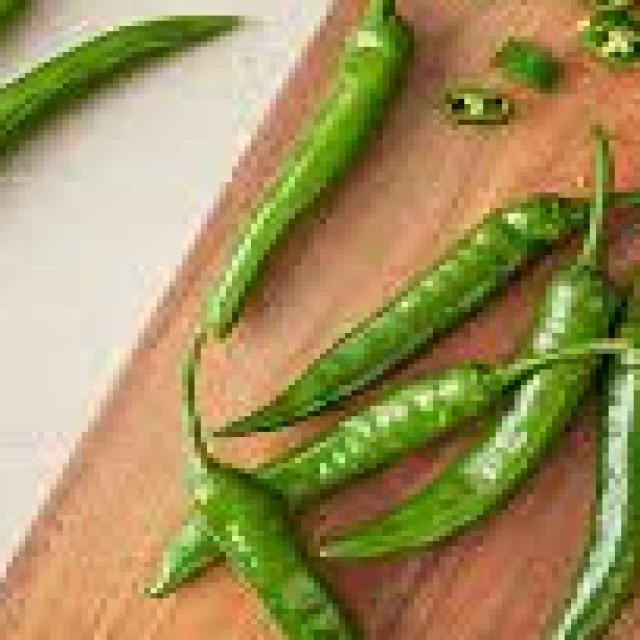chilipepper: (157, 88, 640, 640)
